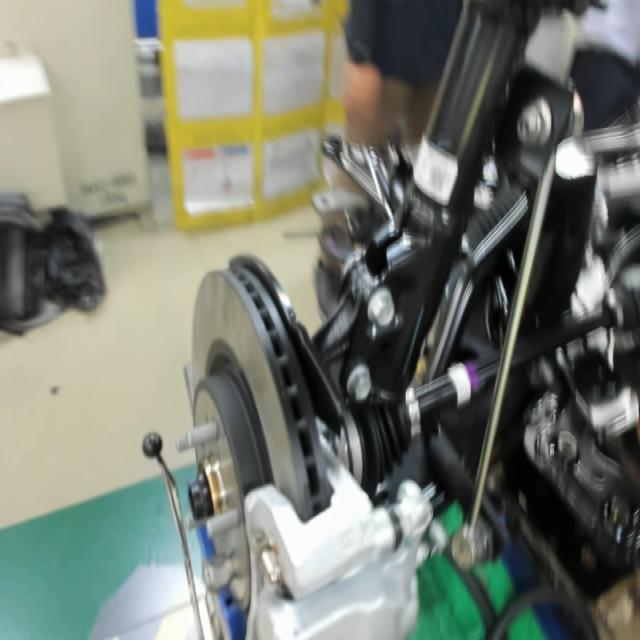Disc-HT: (190, 337, 269, 506)
Drive Shaft-UG: (446, 361, 481, 409)
